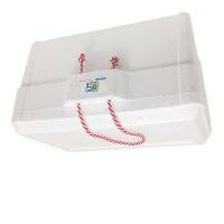foam_box: (4, 8, 215, 160)
